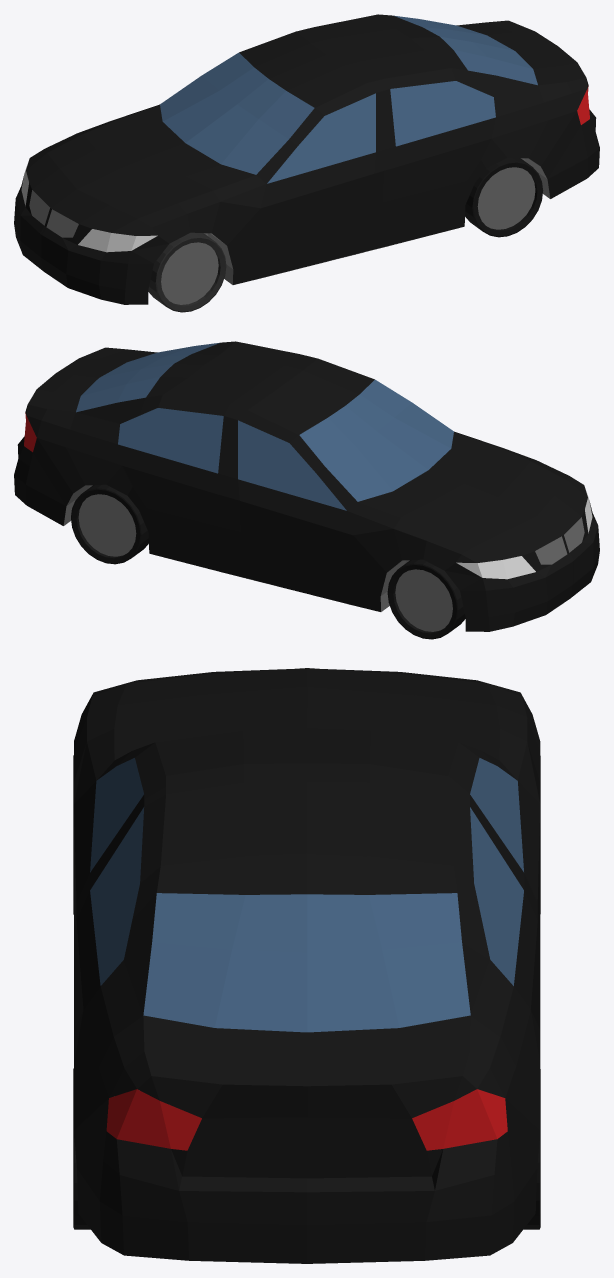
The model's file is bmw_e90.glb.
The picture shows the model from 3 angles, top to bottom: view 1: azimuth 30°, elevation 25°; view 2: azimuth 150°, elevation 25°; view 3: azimuth 270°, elevation 25°; orthographic projection. The views are drawn at different scales.
Parts seen in each view (by area): view 1: Circle_Body_0, Doors, Wind_Shield__Rear_Window, Circle001_Window_0, Circle_Body_0_1, Cylinder_Black_0_1, Cylinder_Black_0_2, Cylinder_Black_0, Tire_Rear_Left, Circle_Black001_0, Circle_Lamp_0; view 2: Circle_Body_0, Doors, Wind_Shield__Rear_Window, Circle001_Window_0, Circle_Body_0_1, Cylinder_Black_0_3, Cylinder_Black_0_4, Tire_Front_RIght, Tire_Rear_Right, Circle001_Window_0_1, Circle_Black001_0, Circle_Lamp_0; view 3: Circle_Body_0, Wind_Shield__Rear_Window, Circle001_Window_0, Doors, Tail_Lights, Circle_Body_0_1, Circle001_Window_0_1.
Boxes of the visible parts, x1,y1,x2,y2 form: Circle_Body_0: (14,14,599,304); Doors: (260,89,495,261); Wind_Shield__Rear_Window: (160,15,537,174); Circle001_Window_0: (267,81,495,183); Circle_Body_0_1: (20,75,588,263); Cylinder_Black_0_1: (161,242,218,304); Cylinder_Black_0_2: (477,167,535,229); Cylinder_Black_0: (148,232,226,312); Tire_Rear_Left: (465,157,543,237); Circle_Black001_0: (32,158,550,284); Circle_Lamp_0: (21,162,136,252); Circle_Body_0: (14,341,599,631); Doors: (118,416,353,588); Wind_Shield__Rear_Window: (76,342,453,501); Circle001_Window_0: (118,408,315,479); Circle_Body_0_1: (25,403,593,590); Cylinder_Black_0_3: (395,569,452,631); Cylinder_Black_0_4: (78,494,136,556); Tire_Front_RIght: (387,559,465,639); Tire_Rear_Right: (71,484,148,564); Circle001_Window_0_1: (239,473,346,510); Circle_Black001_0: (63,485,584,611); Circle_Lamp_0: (477,489,592,579); Circle_Body_0: (74,668,540,1263); Wind_Shield__Rear_Window: (143,893,470,1032); Circle001_Window_0: (90,758,523,985); Doors: (74,781,540,1029); Tail_Lights: (106,1089,507,1150); Circle_Body_0_1: (74,669,539,1190); Circle001_Window_0_1: (497,766,523,870).
Bounding box in the file's own units: 962 × 296 × 370.
